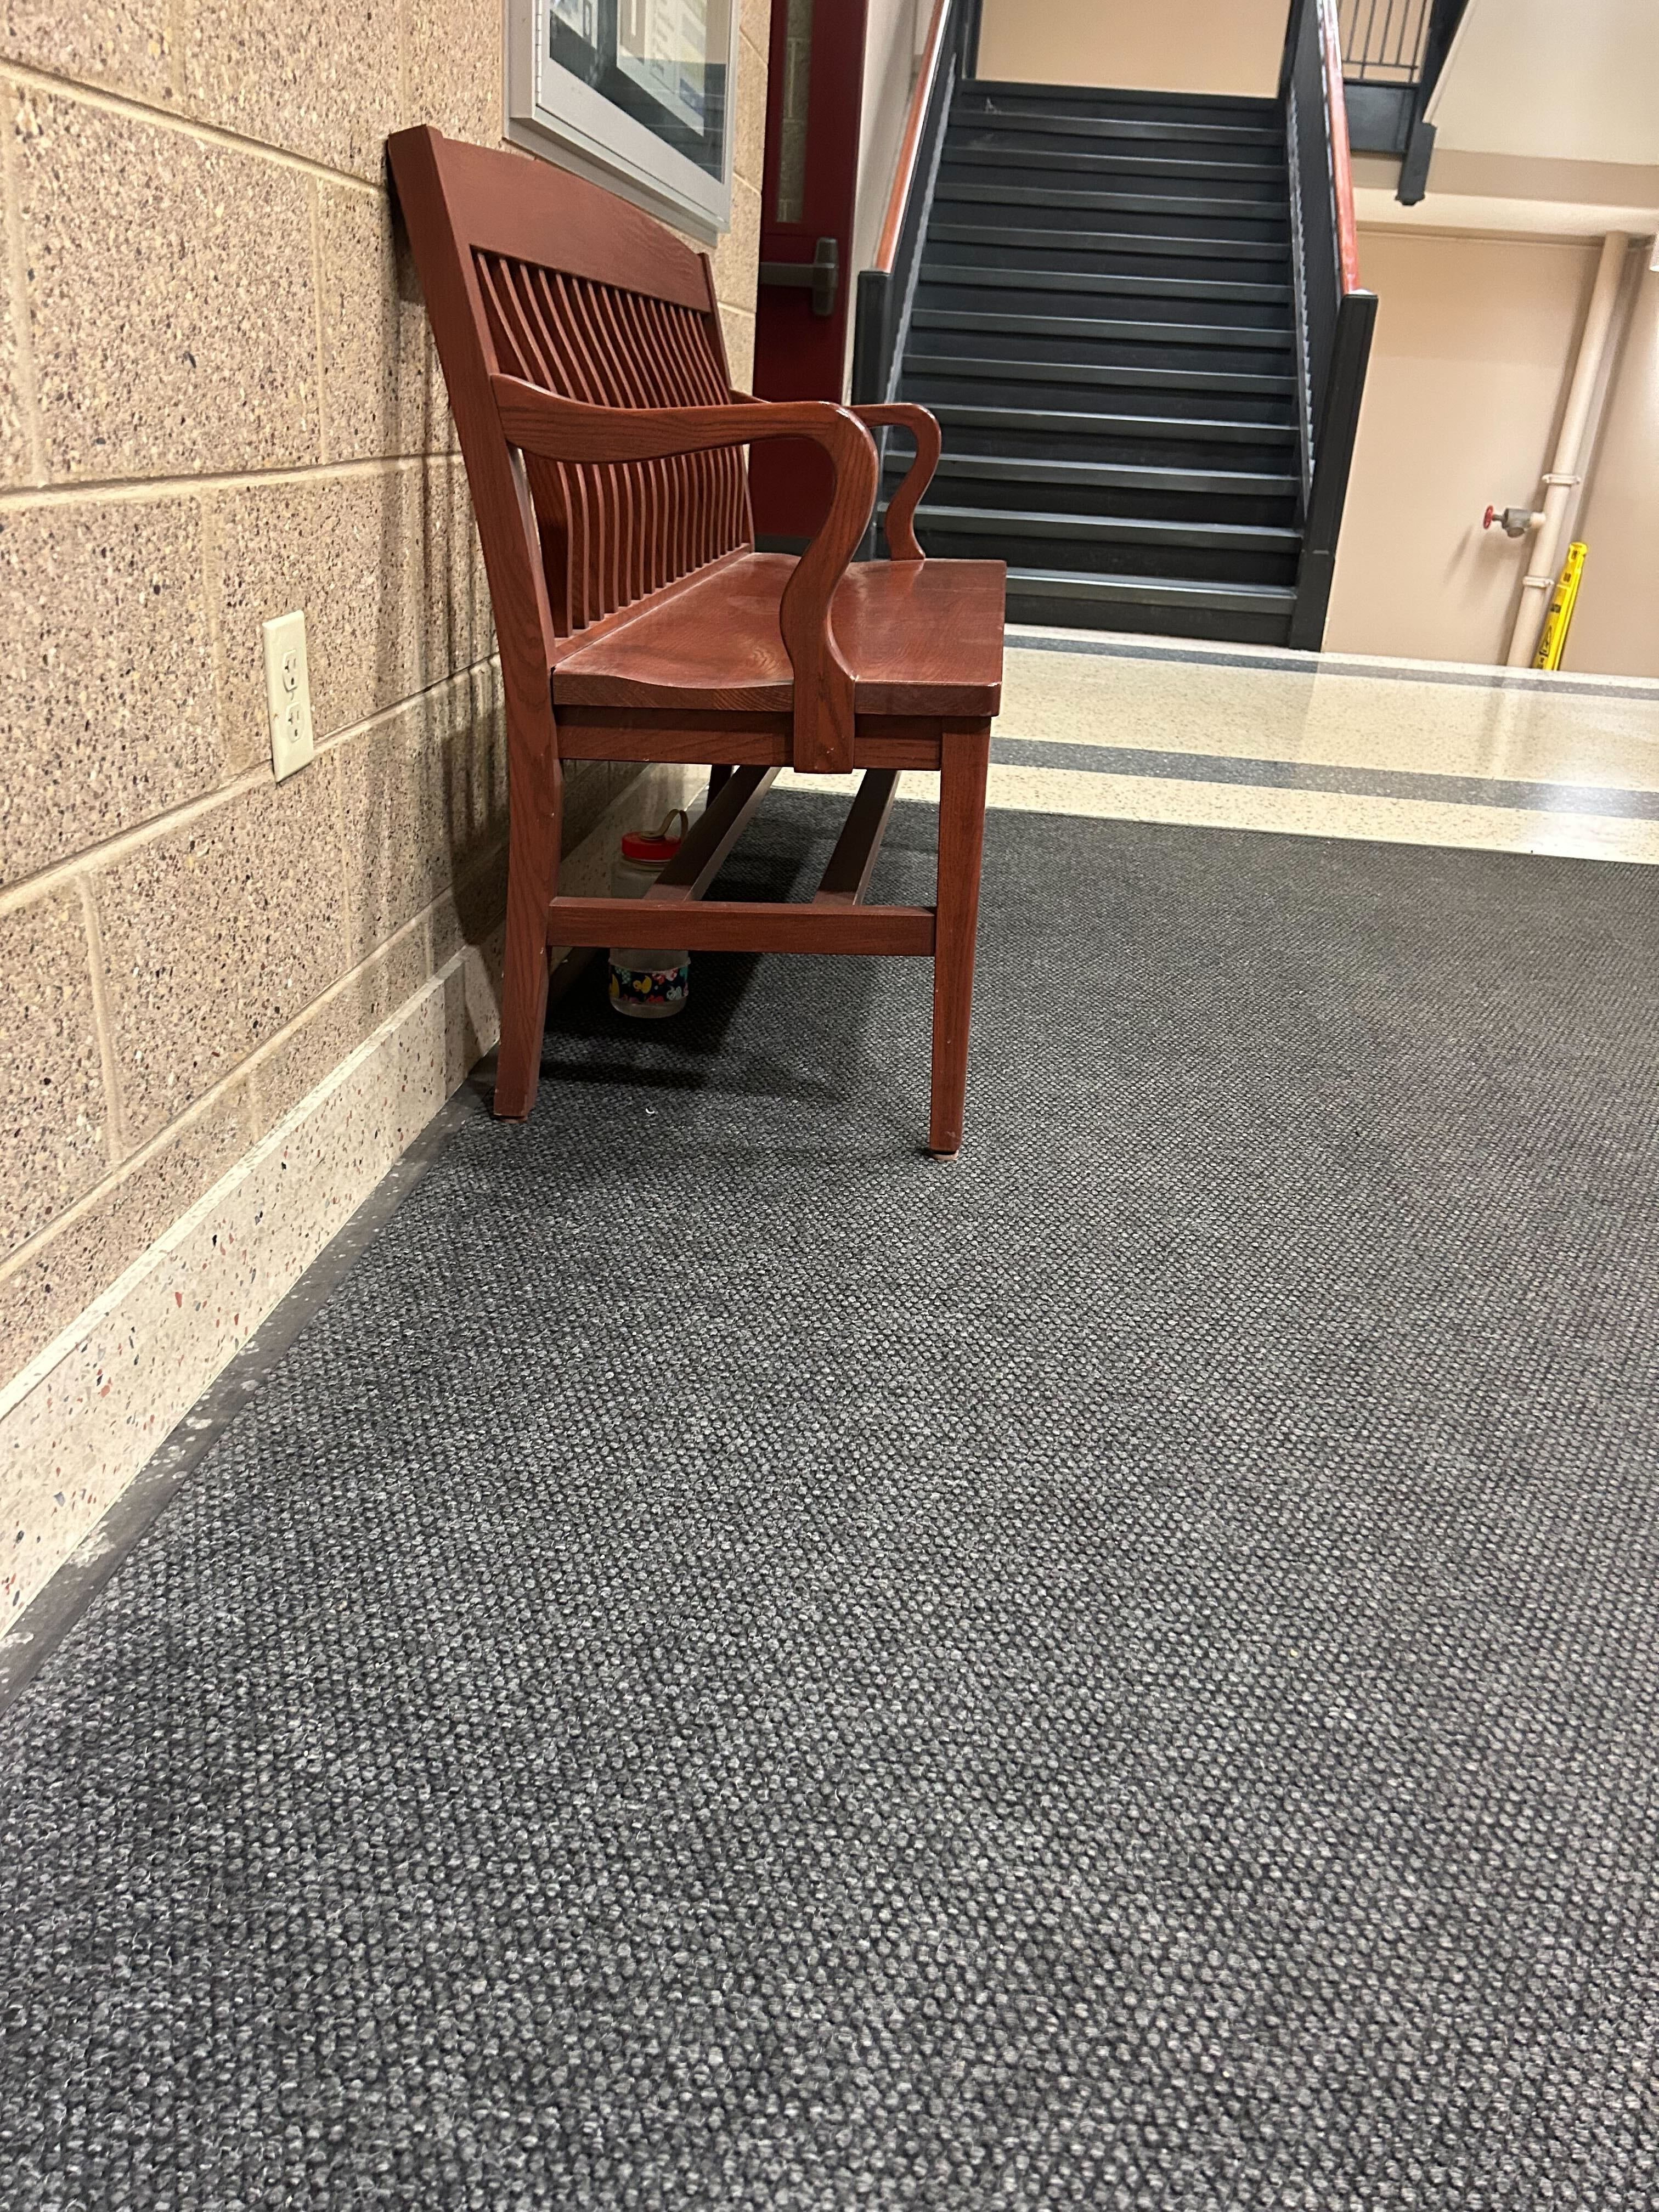bottle: (606, 794, 694, 1031)
